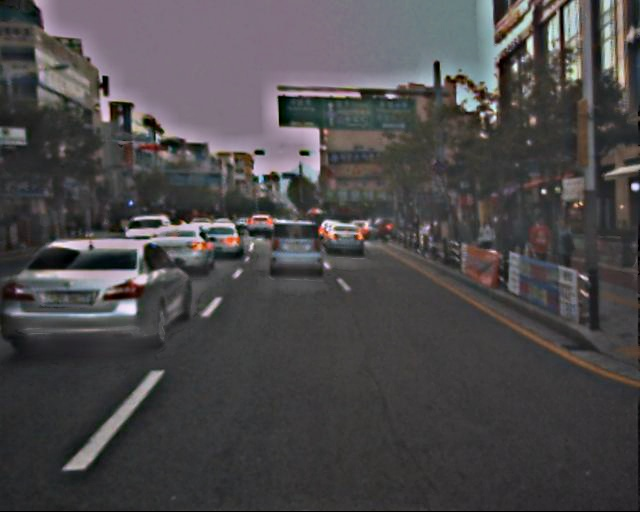person: (544, 219, 576, 296), (492, 214, 520, 282), (524, 218, 551, 284), (476, 218, 500, 277)
